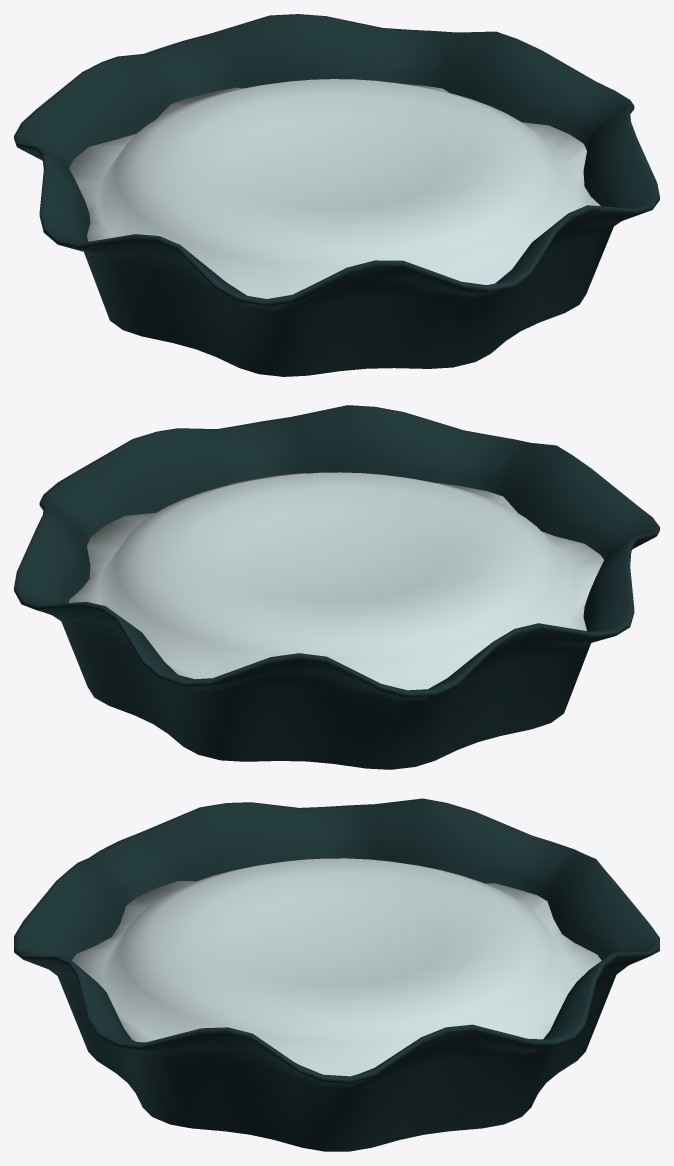
The model's file is 빙수수정버전.fbx.
The picture shows the model from 3 angles, top to bottom: view 1: azimuth 30°, elevation 25°; view 2: azimuth 150°, elevation 25°; view 3: azimuth 270°, elevation 25°; orthographic projection. The views are drawn at different scales.
Parts seen in each view (by area): view 1: 빙수바닥.004; view 2: 빙수바닥.004; view 3: 빙수바닥.004.
Boxes of the visible parts, x1,y1,x2,y2 form: 빙수바닥.004: (14, 14, 659, 376); 빙수바닥.004: (14, 405, 659, 769); 빙수바닥.004: (14, 798, 659, 1151).
Bounding box in the file's own units: 1691 × 377 × 1691.
